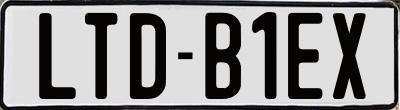1: (252, 11, 281, 98)
B: (202, 10, 238, 98)
D: (130, 10, 171, 97)
E: (288, 13, 326, 104)
L: (39, 13, 78, 104)
T: (82, 13, 117, 100)
X: (330, 11, 364, 97)
